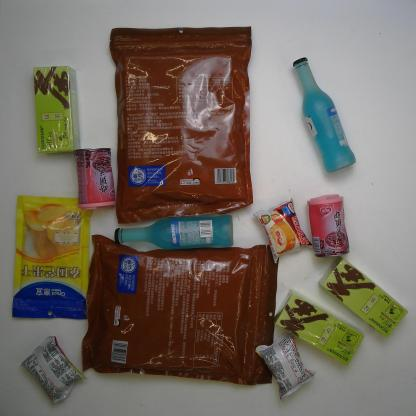Alcohol: (290, 58, 361, 175), (110, 212, 236, 252)
Canned Food: (306, 192, 351, 258), (72, 146, 117, 210)
Dessert: (18, 332, 89, 405), (251, 196, 314, 264), (255, 335, 317, 401)
Dried Food: (77, 235, 281, 386), (105, 18, 256, 216)
Dried Fruit: (13, 191, 93, 321)
Instant Drink: (275, 288, 367, 370), (317, 256, 410, 336), (31, 62, 80, 155)
